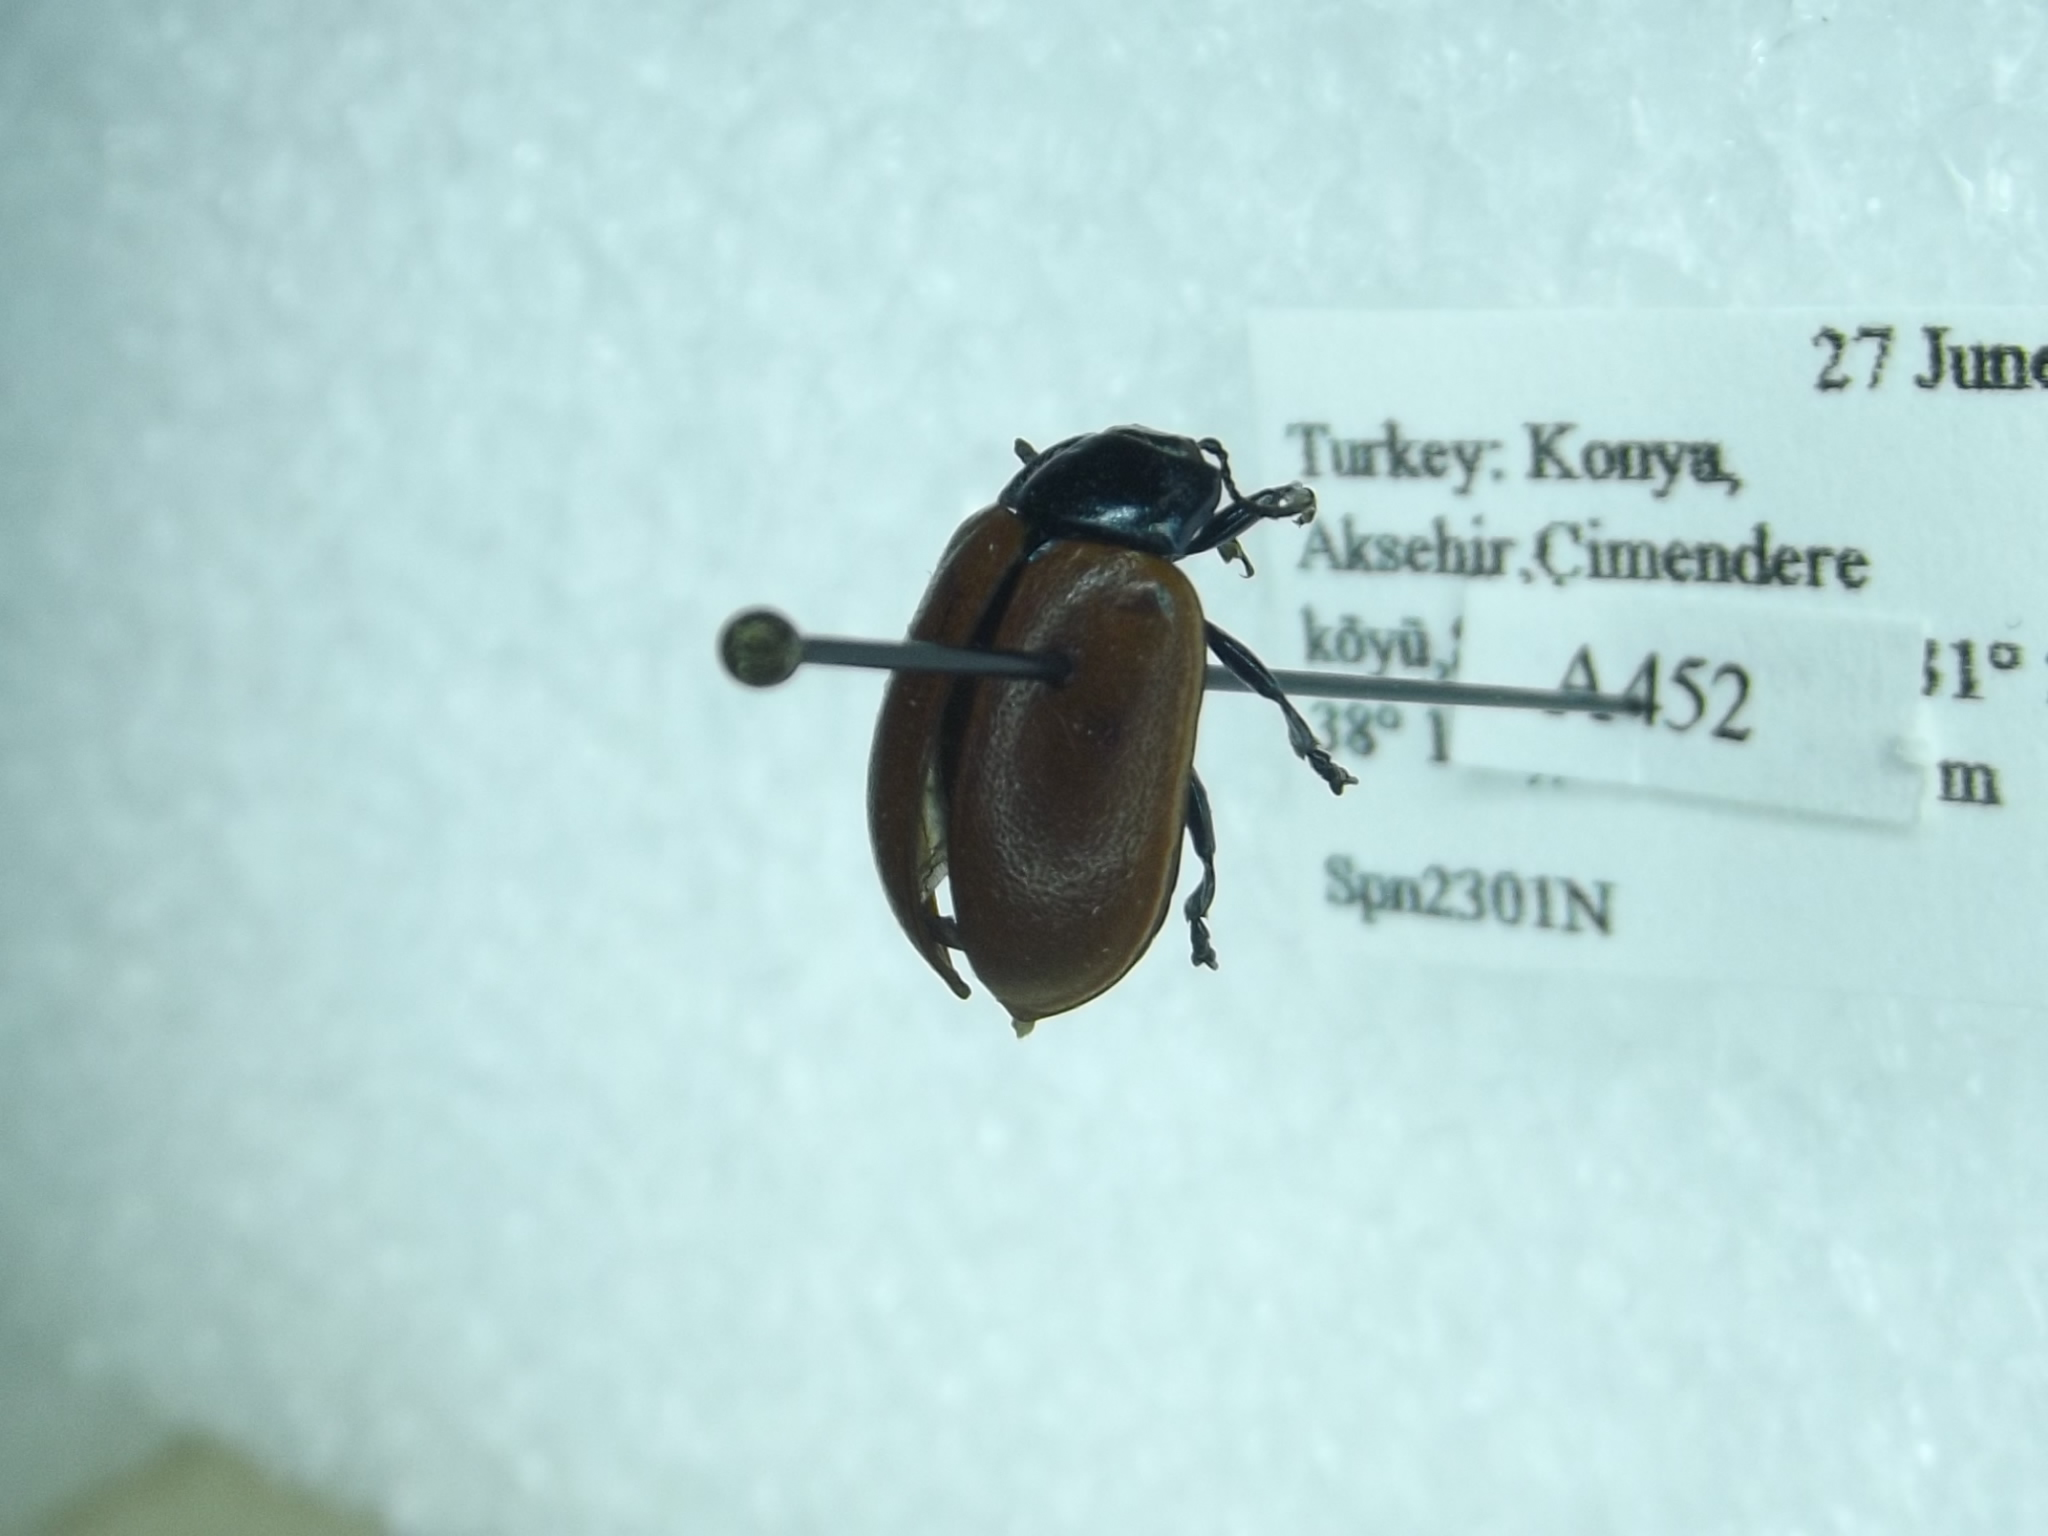Chrysomela_populi: (856, 402, 1369, 1036)
